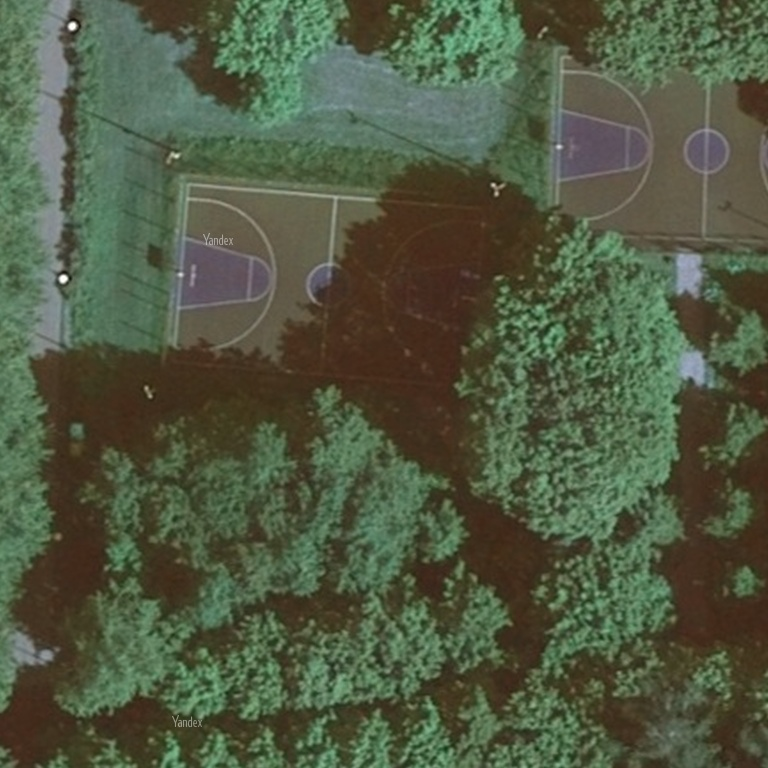basket_court: (153, 166, 523, 414), (545, 43, 768, 258)
